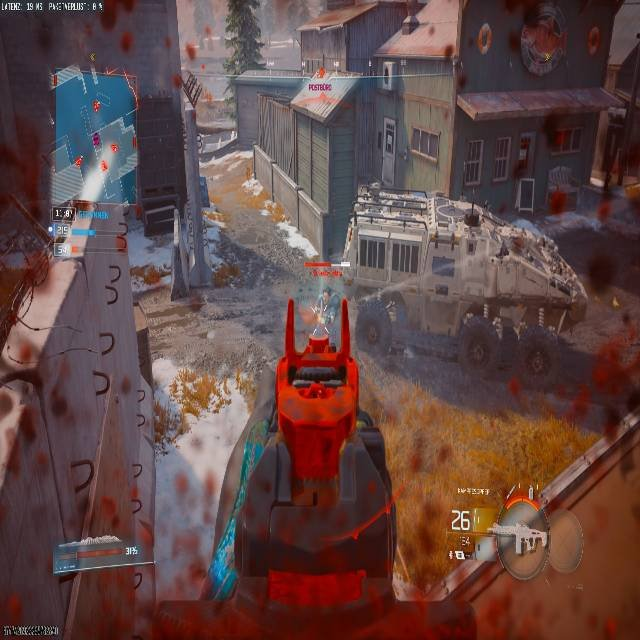head: (322, 286, 330, 296)
player: (319, 286, 336, 325)
